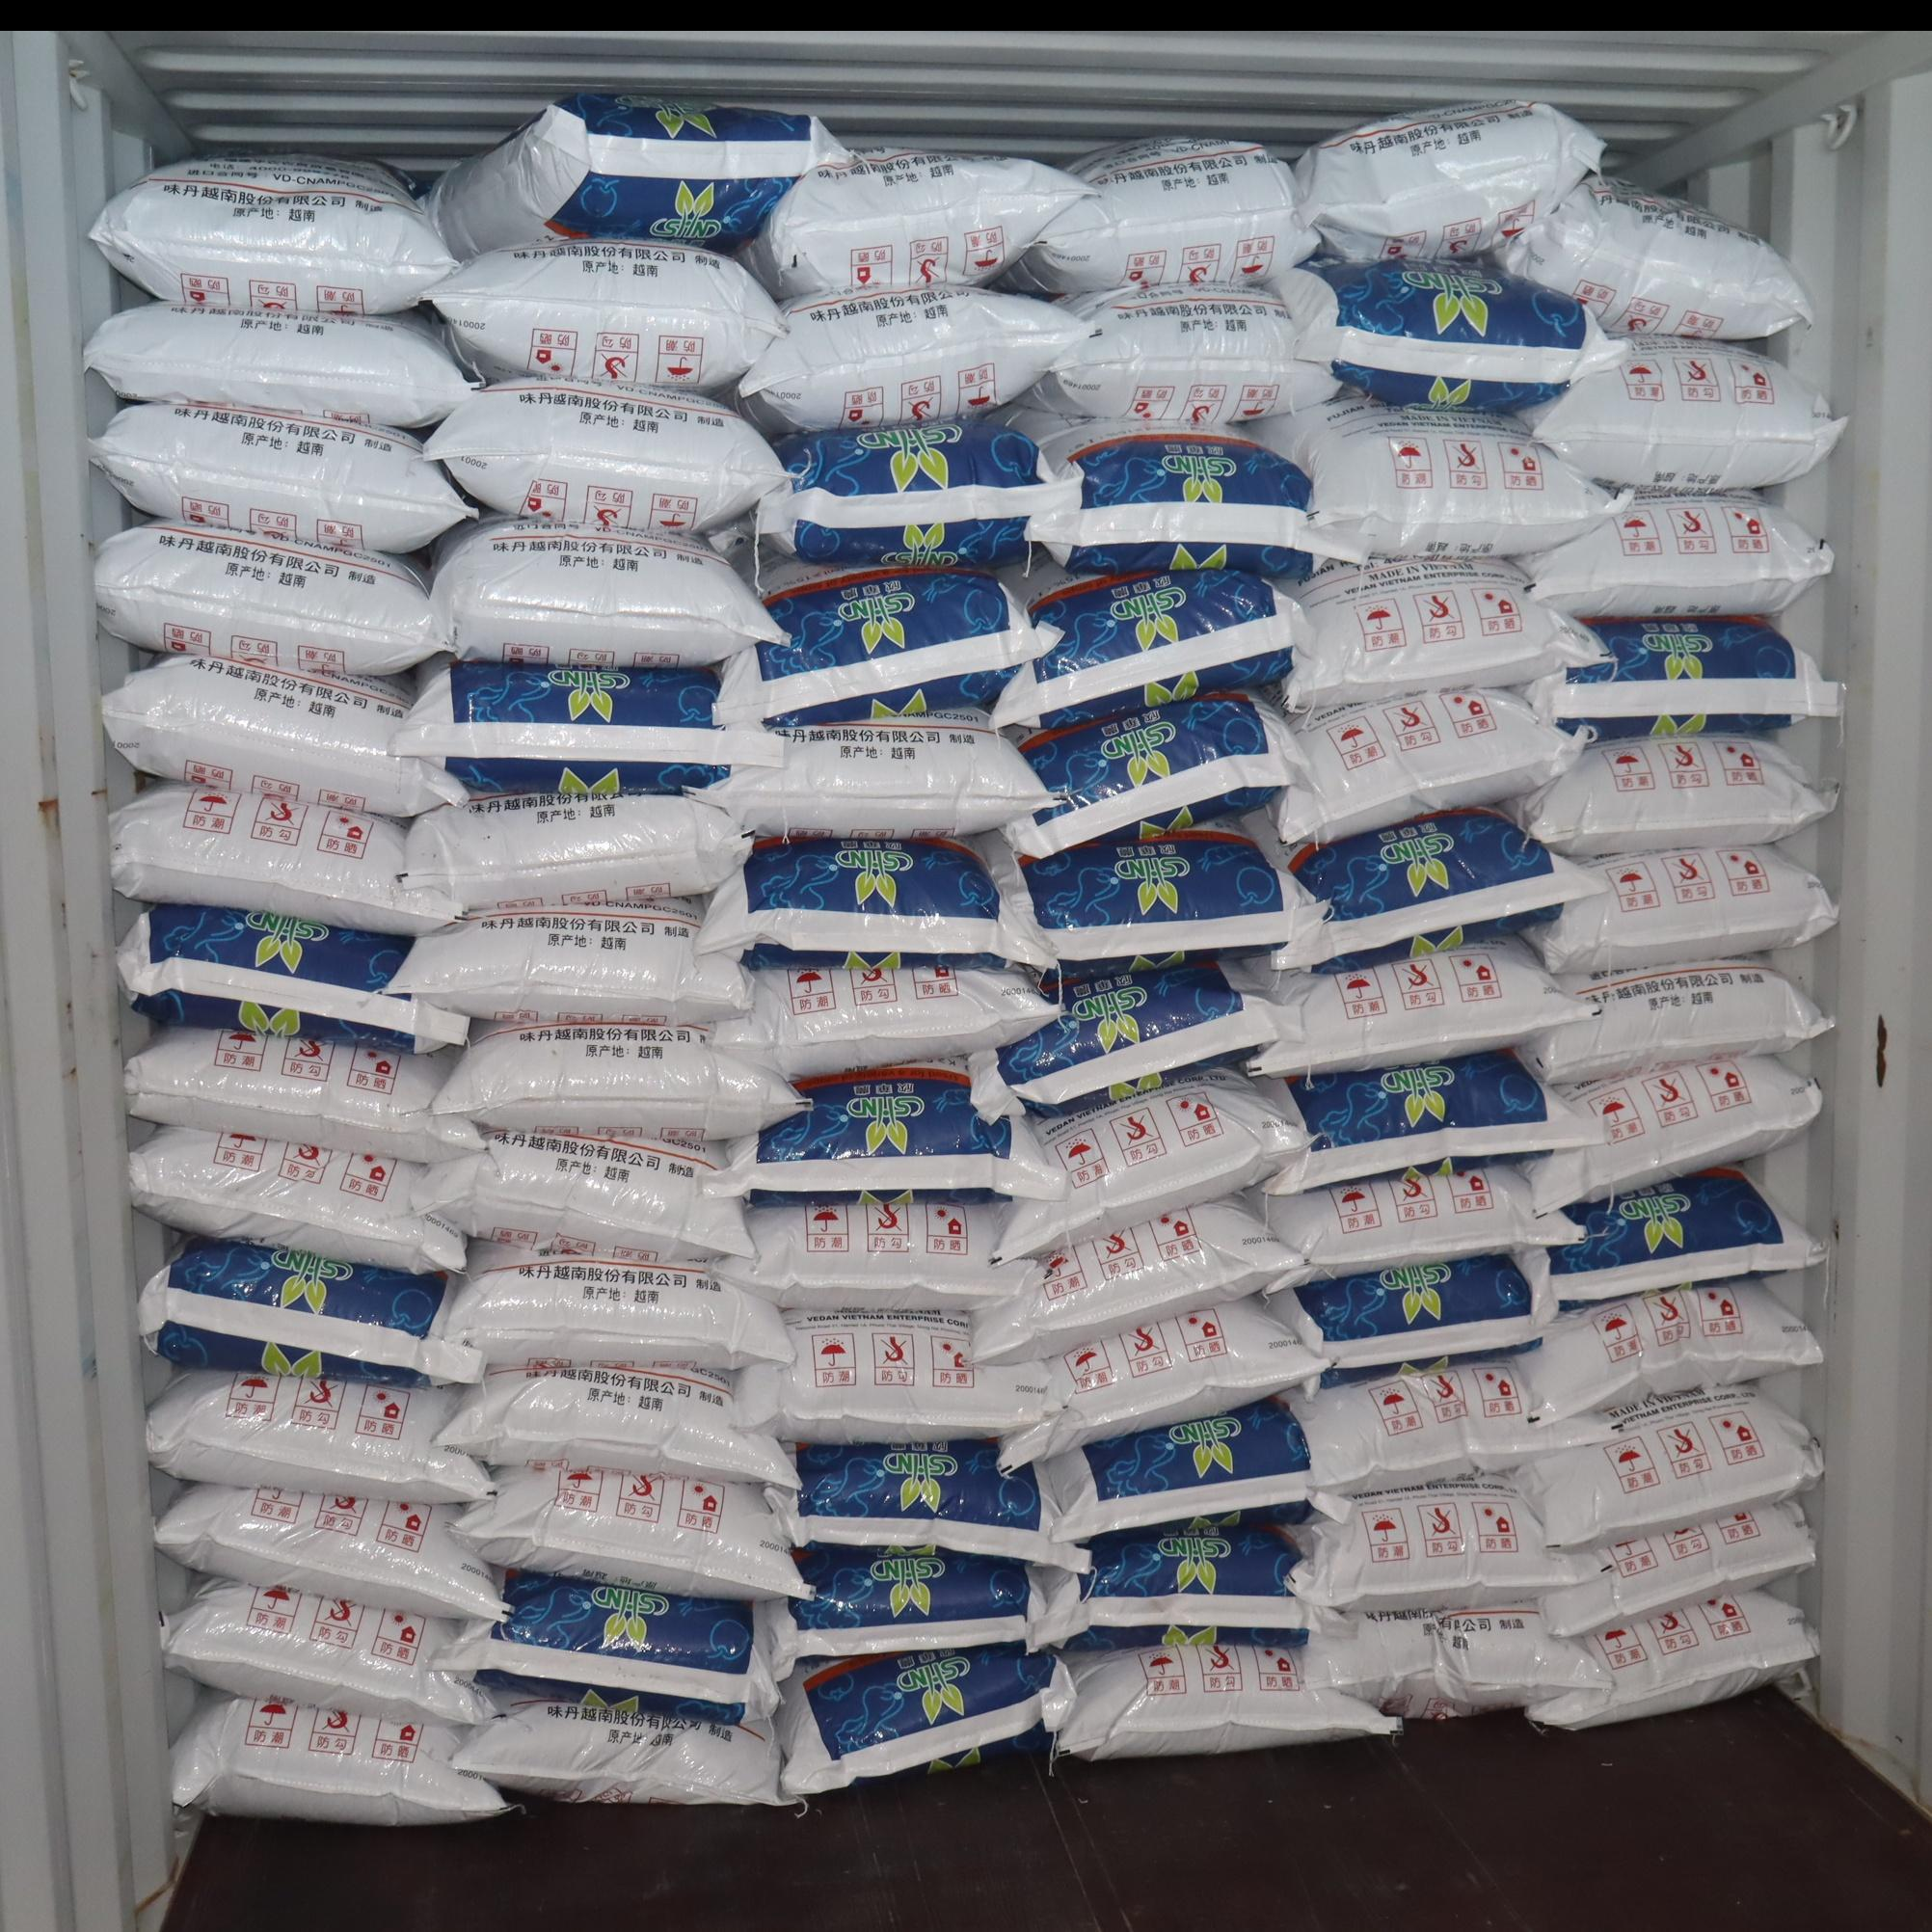sack: (432, 92, 844, 255), (90, 154, 456, 317), (426, 377, 786, 540), (103, 658, 465, 819), (971, 1198, 1316, 1364), (90, 403, 474, 552), (1254, 398, 1608, 559), (1003, 1072, 1307, 1254), (1000, 1299, 1325, 1468), (1269, 807, 1608, 970), (715, 564, 1056, 725), (428, 239, 786, 389), (94, 522, 446, 674), (111, 786, 462, 936), (430, 518, 780, 669), (396, 663, 782, 798), (117, 904, 469, 1051), (1284, 258, 1628, 409), (1028, 421, 1361, 575), (740, 150, 1088, 297), (993, 566, 1313, 725), (442, 1571, 777, 1723), (1500, 177, 1812, 338), (1228, 939, 1594, 1076), (1520, 336, 1844, 490), (138, 1242, 481, 1387), (741, 285, 1086, 428), (1258, 1051, 1603, 1194), (1284, 557, 1608, 709), (708, 1065, 1069, 1201), (1297, 101, 1603, 260), (1518, 1387, 1821, 1548), (129, 1127, 464, 1272), (989, 830, 1323, 975), (85, 303, 471, 428), (156, 1484, 506, 1622), (453, 1461, 807, 1598), (1005, 694, 1300, 856), (126, 1028, 479, 1162), (1522, 1054, 1822, 1212), (970, 964, 1276, 1118), (163, 1582, 495, 1723), (1014, 138, 1315, 294), (432, 1021, 803, 1146), (1276, 690, 1580, 842), (759, 421, 1077, 566), (695, 837, 1046, 968), (777, 1644, 1072, 1798), (147, 1369, 490, 1500), (1026, 285, 1339, 426), (437, 1364, 798, 1486), (391, 901, 752, 1023), (1290, 1359, 1612, 1495), (701, 709, 1049, 835), (444, 1244, 793, 1368), (173, 1695, 504, 1824), (734, 1311, 1058, 1442), (1518, 1279, 1821, 1419), (1258, 1164, 1583, 1293), (768, 1440, 1088, 1571), (412, 1131, 750, 1254), (1031, 1398, 1315, 1541), (405, 794, 750, 911), (1550, 1168, 1824, 1313), (1035, 1525, 1348, 1651), (1270, 1251, 1555, 1389), (1299, 1476, 1594, 1608), (1509, 736, 1835, 856), (1529, 1591, 1815, 1727), (1056, 1644, 1399, 1757), (1529, 617, 1842, 741), (755, 1545, 1044, 1679), (1525, 490, 1833, 616), (715, 968, 1056, 1081), (1518, 957, 1829, 1081), (1532, 846, 1836, 971), (724, 1194, 1044, 1311), (1541, 1500, 1815, 1635), (453, 1698, 778, 1805), (1304, 1608, 1591, 1720)
